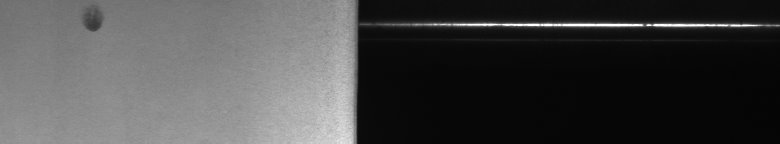fi: (77, 4, 108, 40)
